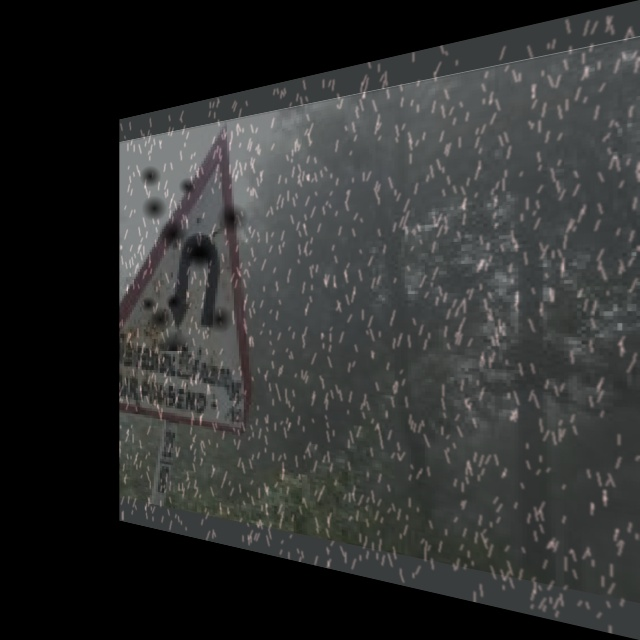Left_Hair_Pin_Bend: (127, 166, 256, 351)
